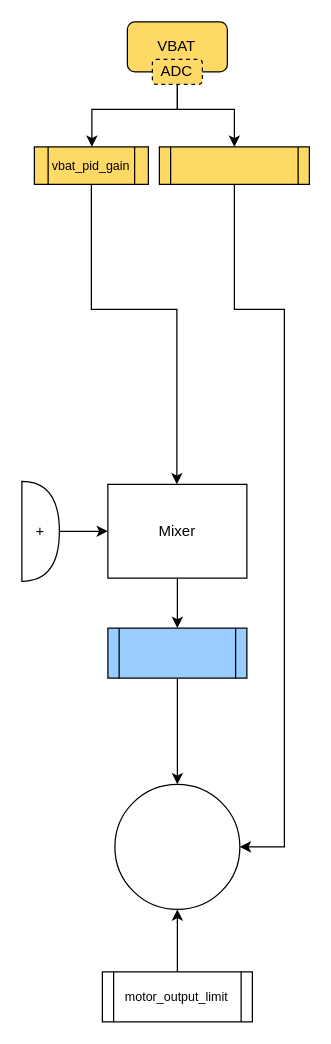
The diagram is 331 pixels wide and 1044 high, and some of its shapes have lost their labels. Each missing label, with the centre of its shape:
"M1-M4" belongs at [177,846].
"thrust_linear (4.0)" belongs at [177,652].
"vbat_sag_compensation" belongs at [233,165].
